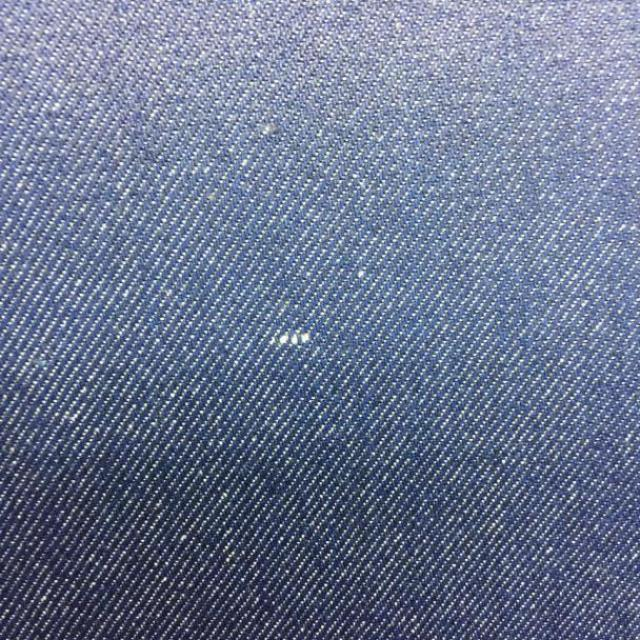Knot: (269, 332, 311, 348)
